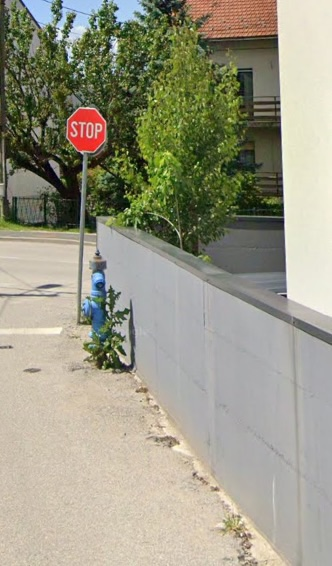Obavezno zaustavljanje: (66, 107, 107, 153)
